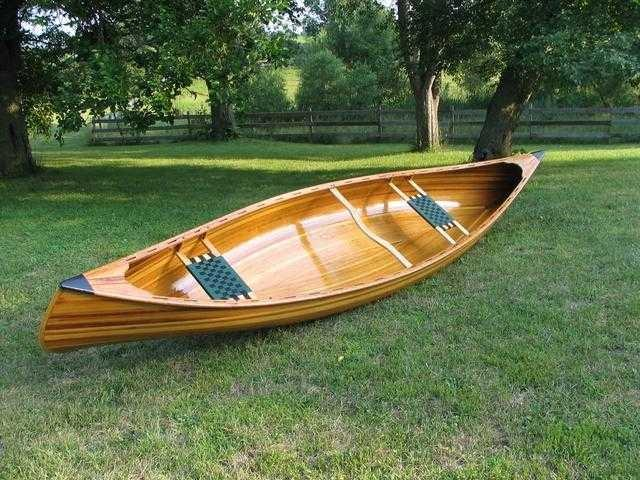kayak: (41, 152, 546, 351)
